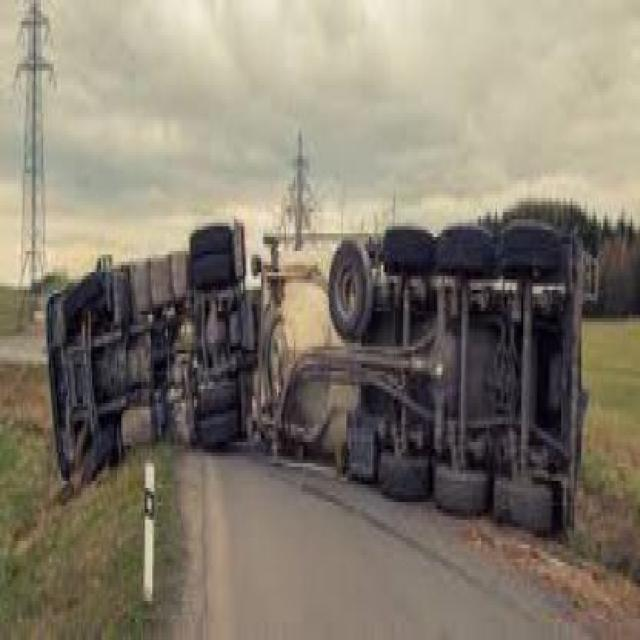accident: (37, 198, 595, 545)
